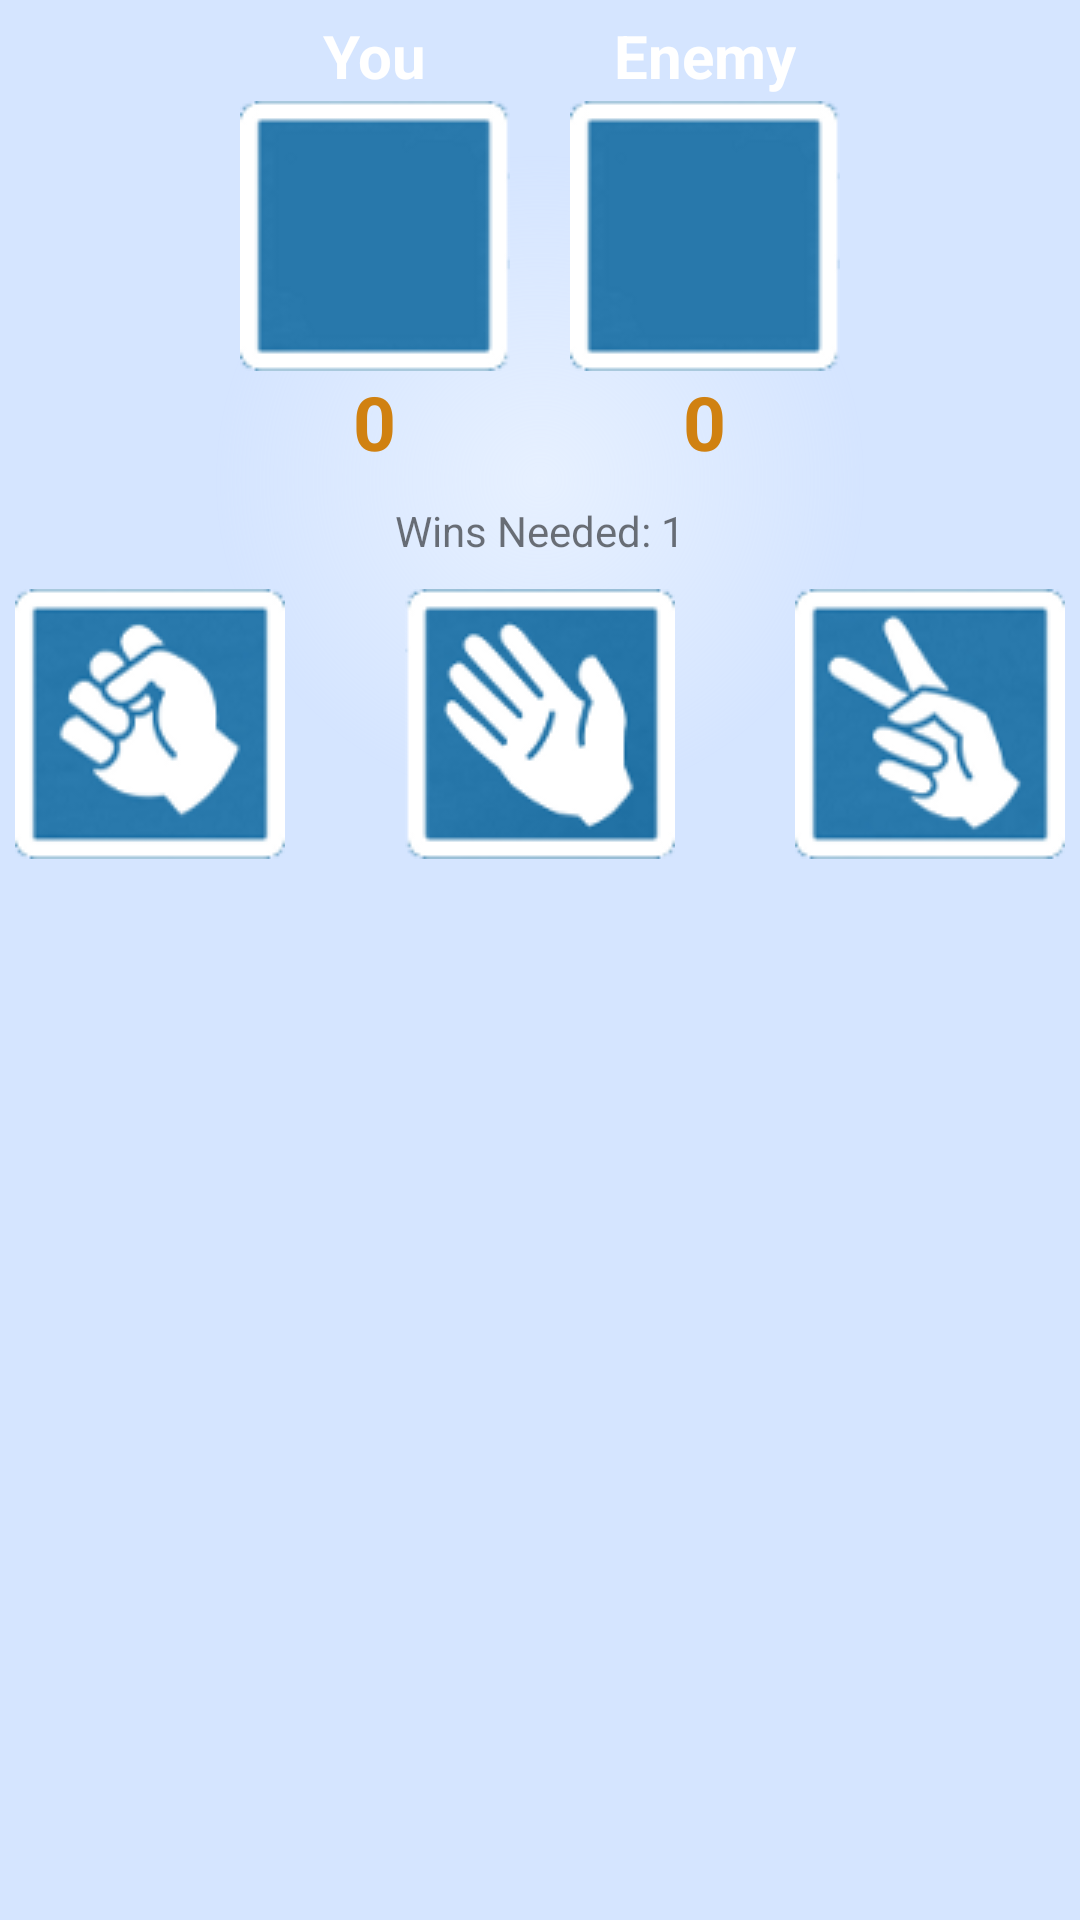

Icon bounding boxes for this 1080*1920 phone screenshot, format (x1, y1, x2, y2):
paper: (407, 589, 675, 859)
rock: (15, 589, 285, 859)
scissors: (795, 589, 1065, 859)
